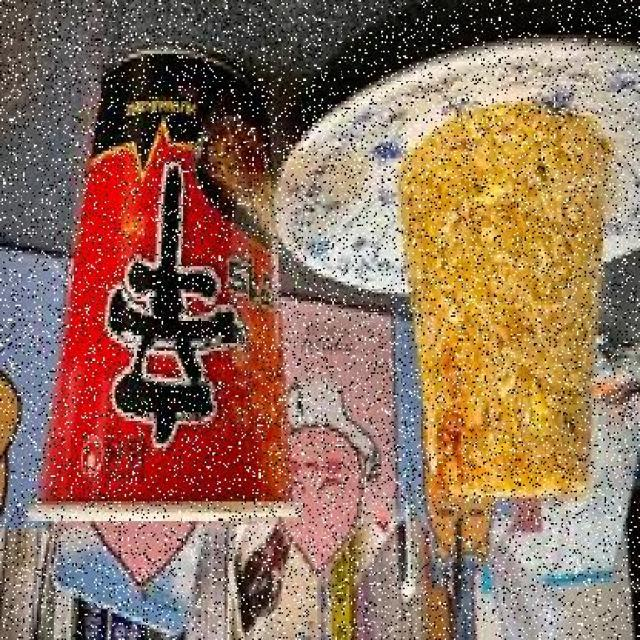Miscellaneous: (24, 48, 308, 537)
